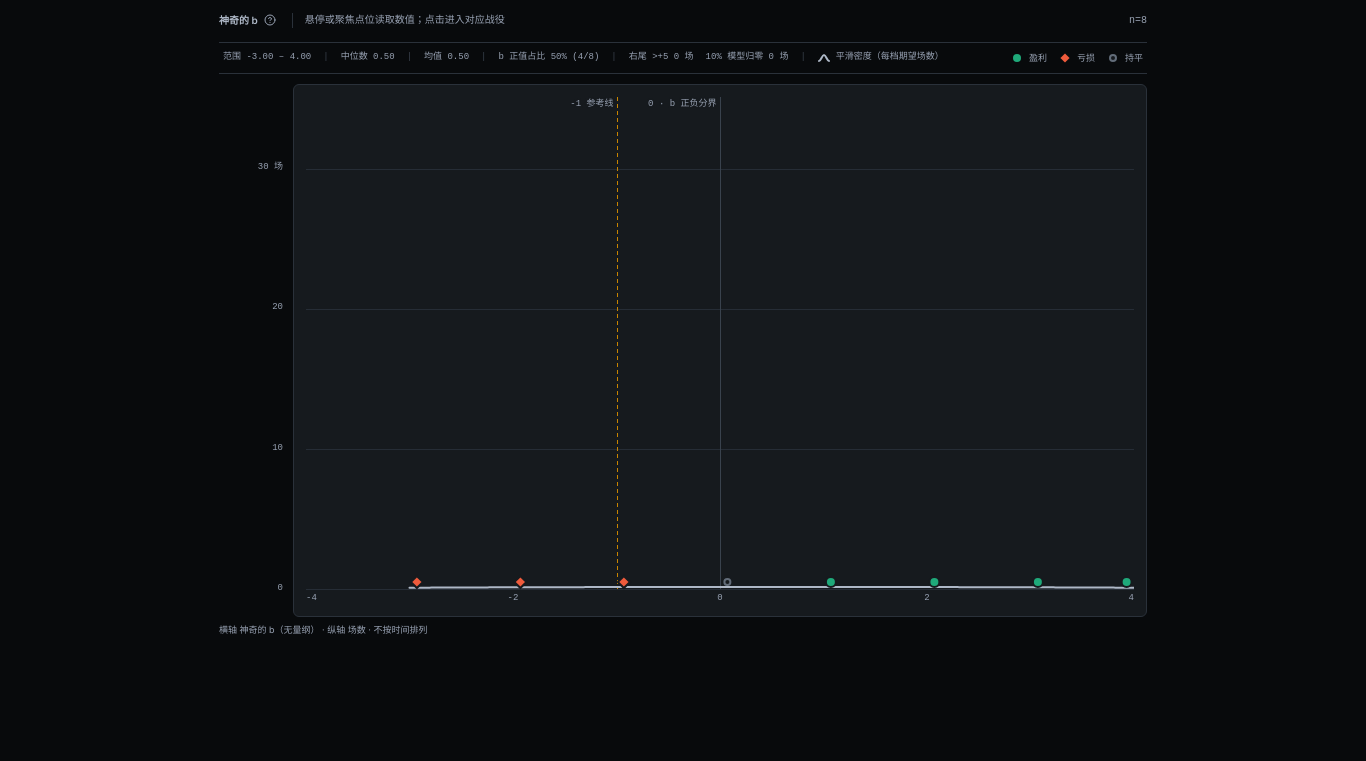
Test: CampaignMetricScatterPlot batch selection › labels geometric b as a dimensionless model rather than realized R or a stop loss
This screenshot has width=1366, height=761.
Expected: the element with test id "campaign-metric-summary-magicBDistribution" shows "b 正值占比", [498, 52, 545, 62]
Expected: the text "-1 参考线" is shown, [570, 98, 614, 108]
Click the button with test id "campaign-metric-guide-toggle-magicBDistribution" at (270, 20), box [260, 10, 280, 30]
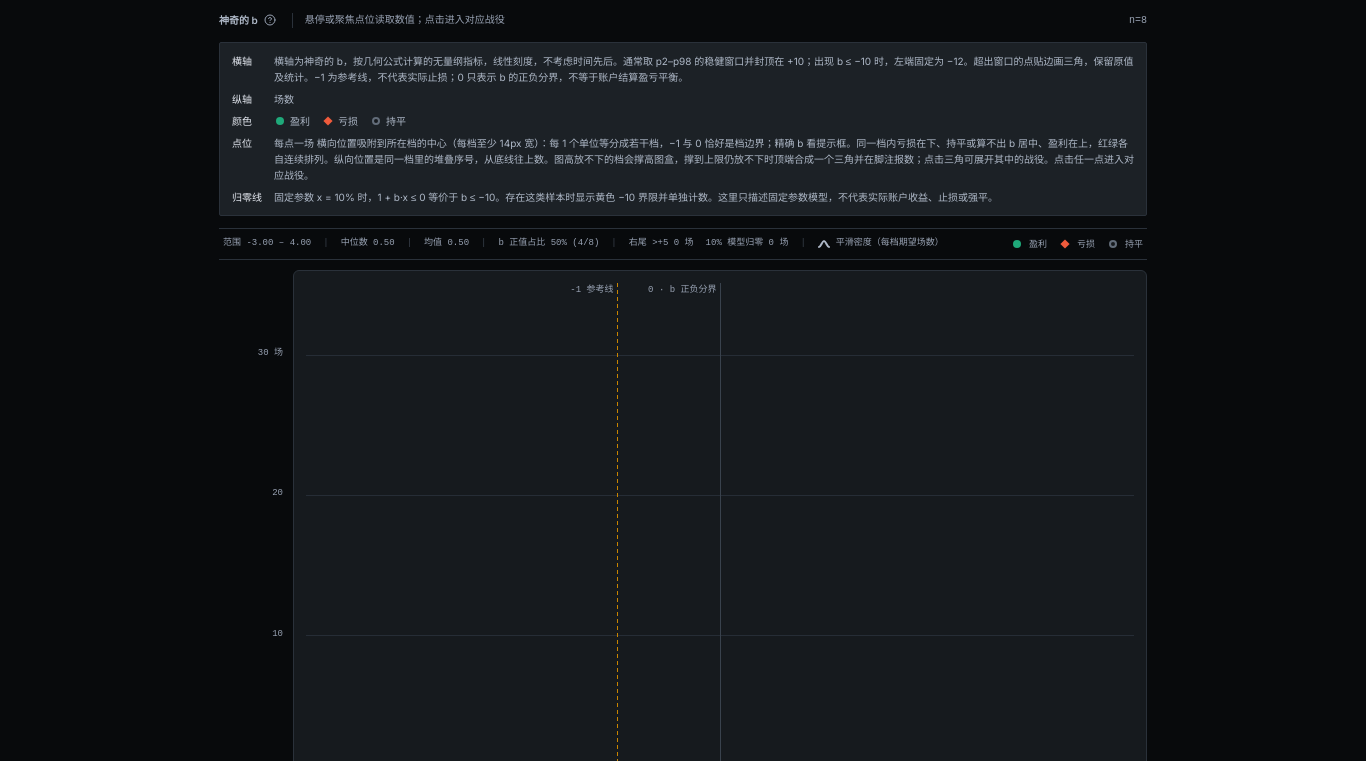
Result: the element with test id "campaign-metric-guide-magicBDistribution" shows "无量纲指标" at [274, 55, 1134, 83]
Result: the element with test id "campaign-metric-guide-magicBDistribution" shows "不等于账户结算盈亏平衡" at [274, 55, 1134, 83]
